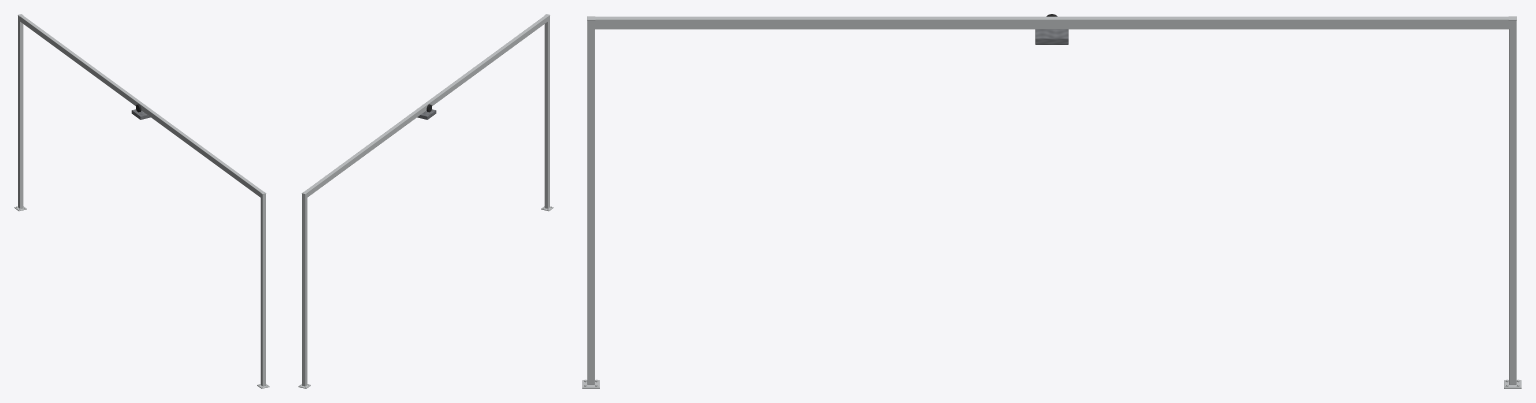
Rendered from fps-weapon-set-and-firing-range-target-carrier-rail-51dffb77__19494.glb.
3 renders of one model, left to right at view 1: azimuth 30°, elevation 25°; view 2: azimuth 150°, elevation 25°; view 3: azimuth 270°, elevation 25°, orthographic. The views are drawn at different scales.
Parts seen in each view (by area): view 1: target-carrier-rail; view 2: target-carrier-rail; view 3: target-carrier-rail.
Boxes of the visible parts, left/top/right/bottom form: target-carrier-rail: left=14, top=14, right=269, bottom=388; target-carrier-rail: left=298, top=14, right=553, bottom=388; target-carrier-rail: left=582, top=14, right=1521, bottom=388.
Size of the model in its own units: 0.14 by 2.2 by 5.1.
3 materials, 1 textured.
